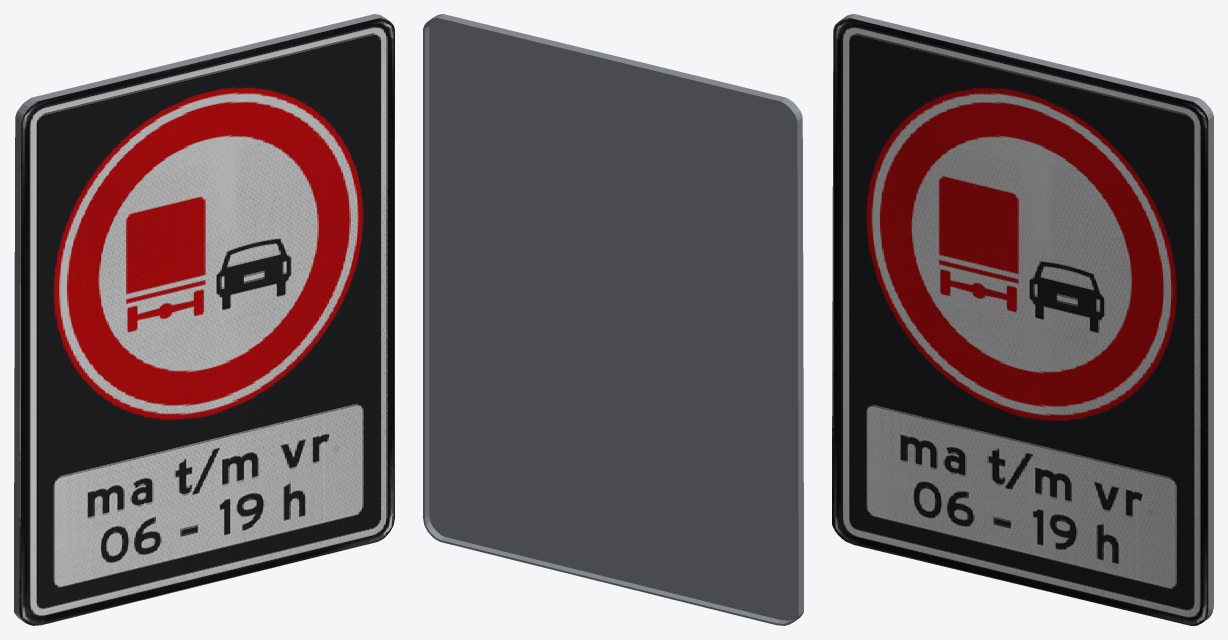
The picture shows the model from 3 angles, left to right: view 1: azimuth 30°, elevation 25°; view 2: azimuth 150°, elevation 25°; view 3: azimuth 330°, elevation 25°; orthographic projection.
Visible parts, largest first — view 1: cat_32ca8fec6d50c82a; view 2: cat_32ca8fec6d50c82a; view 3: cat_32ca8fec6d50c82a.
Part boxes in pixels (left/top/right/bottom): cat_32ca8fec6d50c82a: left=14, top=14, right=394, bottom=625; cat_32ca8fec6d50c82a: left=423, top=14, right=803, bottom=625; cat_32ca8fec6d50c82a: left=832, top=14, right=1213, bottom=625.
Bounding box in the file's own units: 0.6 × 0.015 × 0.8012.
2 materials, 1 textured.
